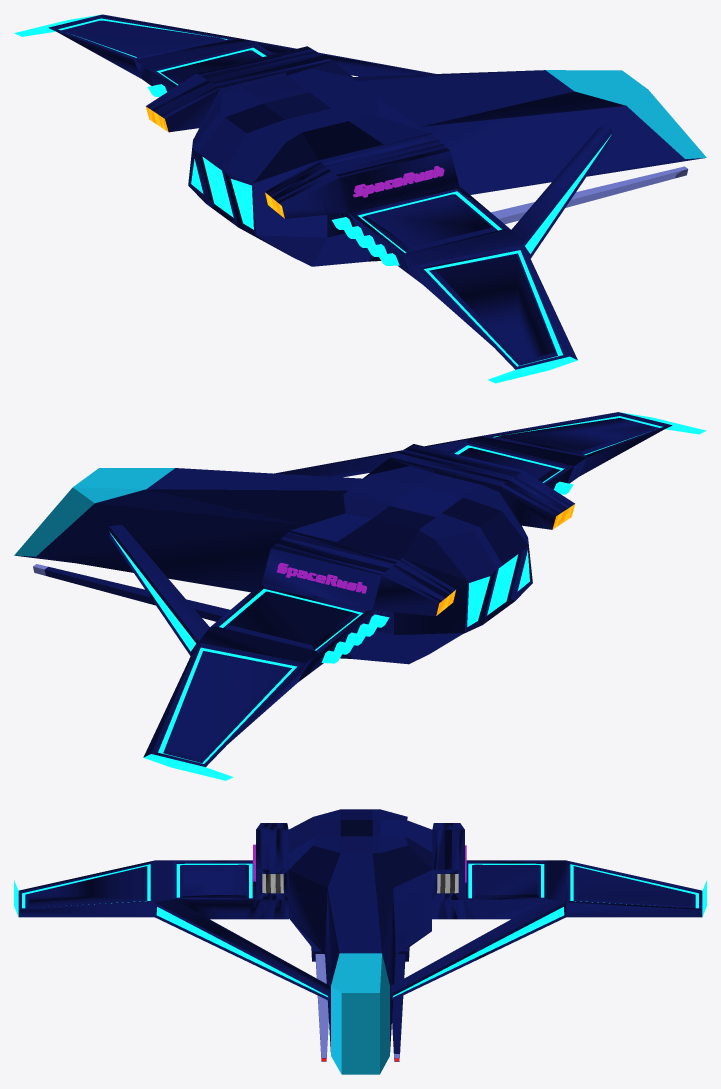
The model's file is lowpolyspaceship.fbx.
3 renders of one model, top to bottom at view 1: azimuth 30°, elevation 25°; view 2: azimuth 150°, elevation 25°; view 3: azimuth 270°, elevation 25°, orthographic. The views are drawn at different scales.
Parts seen in each view (by area): view 1: Cube, Cube_2; view 2: Cube, Cube_2; view 3: Cube_2, Cube.
Part boxes in pixels (<box>): Cube: <box>188,61,706,266</box>; Cube_2: <box>14,14,612,383</box>; Cube: <box>14,458,532,664</box>; Cube_2: <box>108,412,706,780</box>; Cube_2: <box>14,823,706,1000</box>; Cube: <box>288,809,432,1074</box>.
Bounding box in the file's own units: 575 × 168 × 971.
